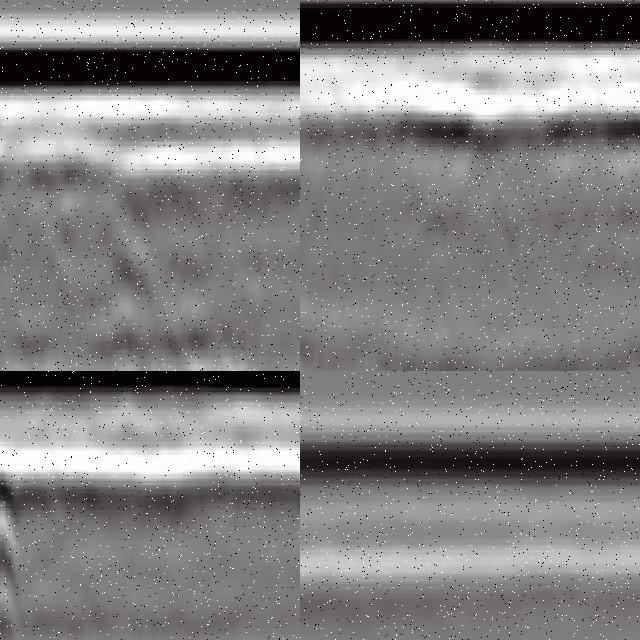crack: (1, 462, 24, 640)
loose: (108, 290, 230, 372)
